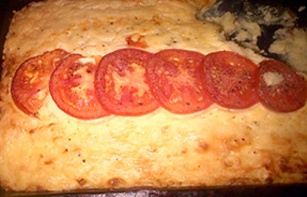background: (0, 0, 147, 61)
